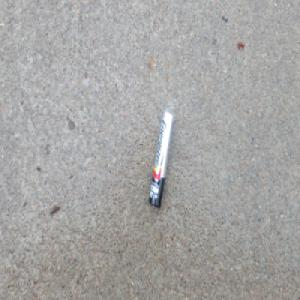Battery: (147, 110, 173, 209)
